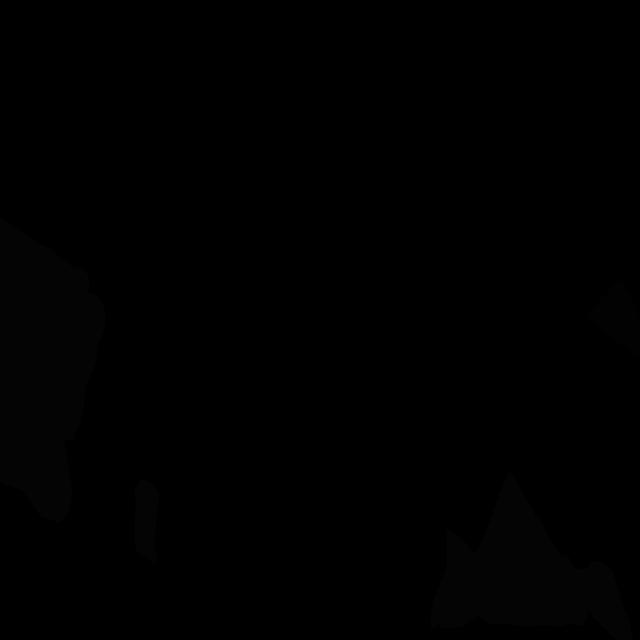cardboard: (584, 278, 640, 364)
soft_plastic: (430, 471, 633, 640), (0, 217, 106, 522), (134, 479, 159, 564)
